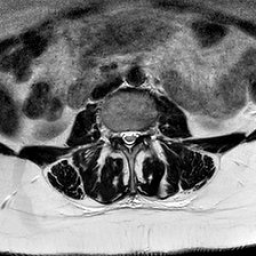CCS_normal: (125, 121, 132, 158)
LFS_stenosis: (139, 118, 147, 145)
LLS_normal: (132, 121, 139, 148)
RFS_stenosis: (110, 120, 118, 146)
RLS_normal: (118, 122, 125, 148)
